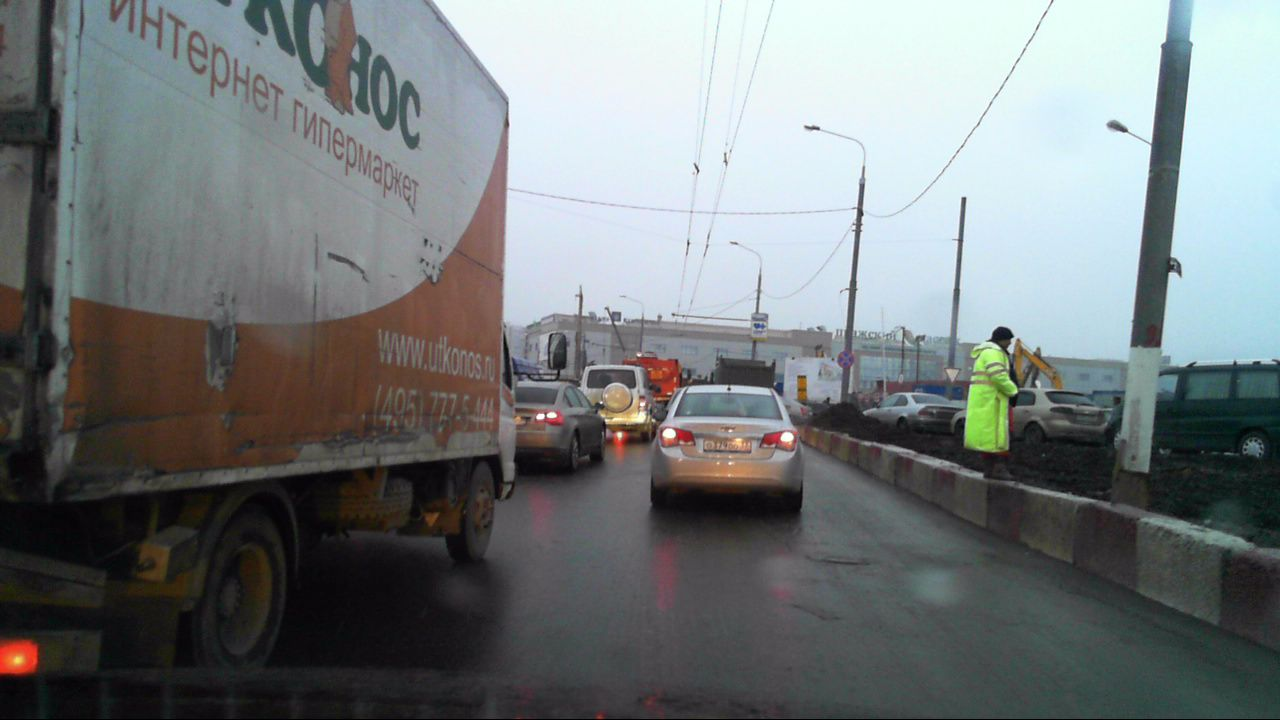No Parking: (835, 349, 854, 368)
